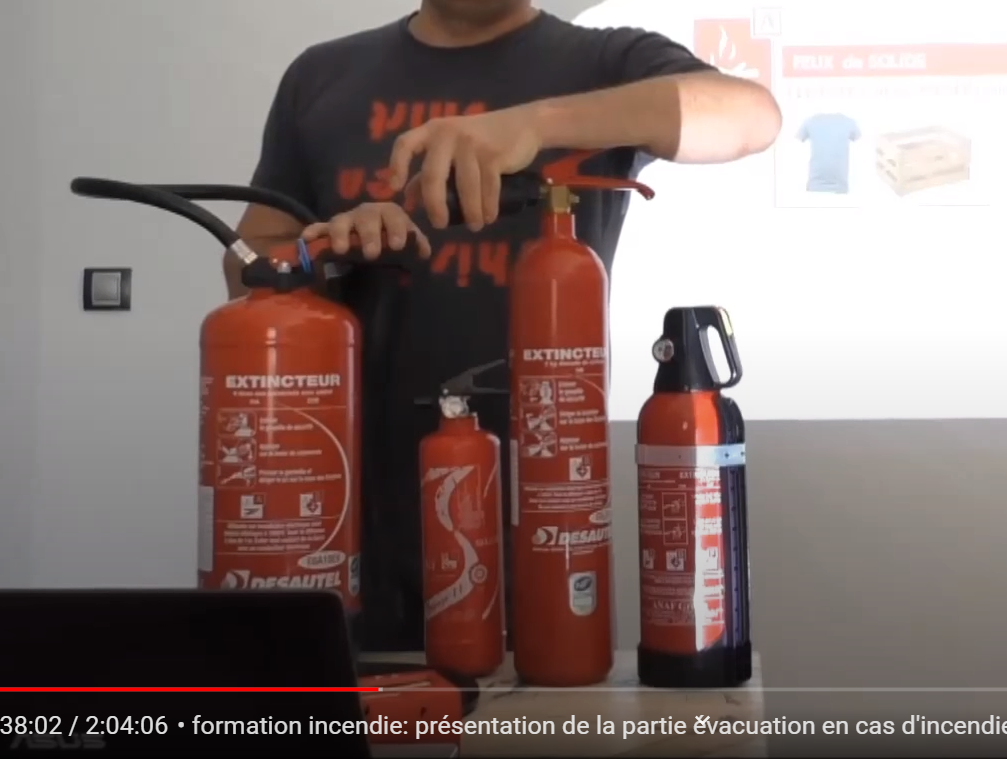fire_extinguisher: (507, 149, 654, 687), (196, 236, 365, 625), (634, 305, 752, 688), (416, 357, 510, 680)
